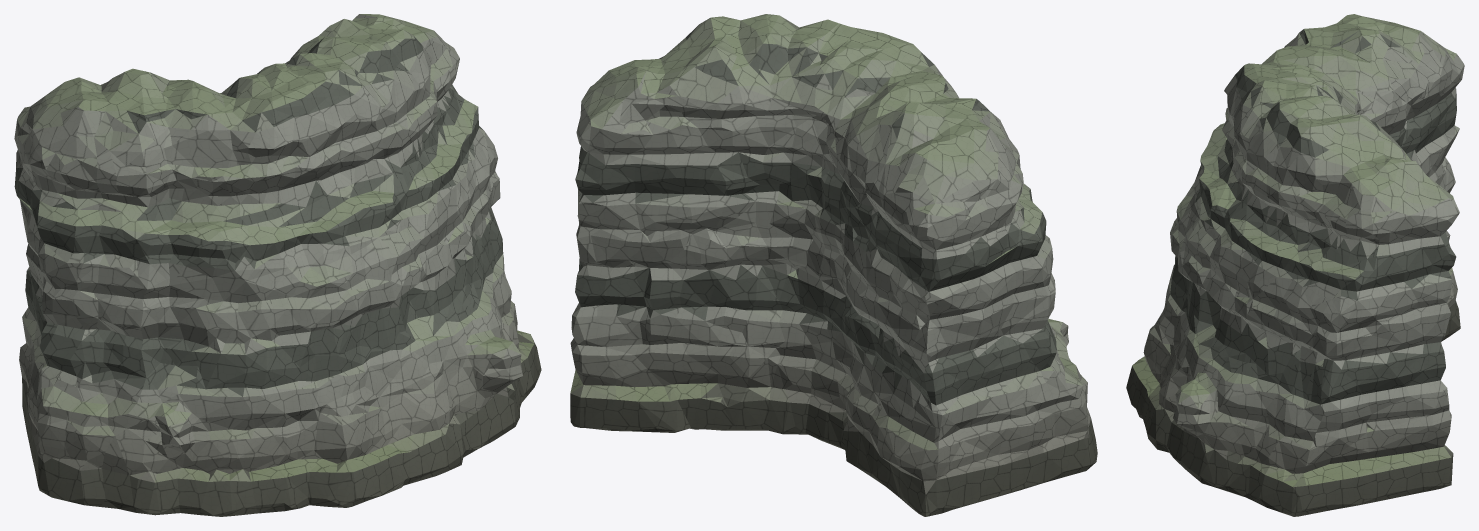
Rendered from cliff_corner.glb.
The picture shows the model from 3 angles, left to right: view 1: azimuth 30°, elevation 25°; view 2: azimuth 150°, elevation 25°; view 3: azimuth 270°, elevation 25°; orthographic projection. The views are drawn at different scales.
Visible parts, largest first — view 1: cliff_corner.001; view 2: cliff_corner.001; view 3: cliff_corner.001.
Part boxes in pixels (bbox=[...]): cliff_corner.001: bbox=[14, 14, 541, 516]; cliff_corner.001: bbox=[570, 14, 1097, 516]; cliff_corner.001: bbox=[1126, 14, 1464, 516].
Size of what is drawn, in the model's own units: 16.27 by 11.66 by 10.5.
2 materials, 2 textured.
